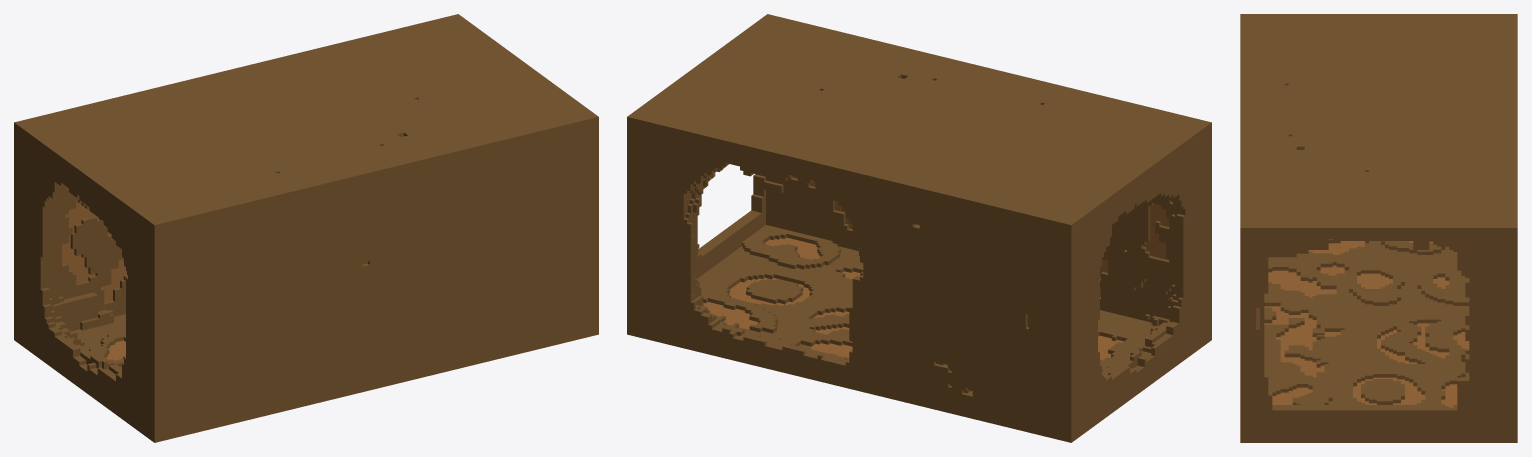
The model's file is Level1_pathway_template_v2.dae.
The picture shows the model from 3 angles, left to right: view 1: azimuth 30°, elevation 25°; view 2: azimuth 150°, elevation 25°; view 3: azimuth 270°, elevation 25°; orthographic projection.
Parts seen in each view (by area): view 1: level1_pathway_template_v2.level_1_template_v3; view 2: level1_pathway_template_v2.level_1_template_v3; view 3: level1_pathway_template_v2.level_1_template_v3.
Part boxes in pixels (bbox=[...]): level1_pathway_template_v2.level_1_template_v3: bbox=[14, 14, 598, 442]; level1_pathway_template_v2.level_1_template_v3: bbox=[627, 14, 1211, 442]; level1_pathway_template_v2.level_1_template_v3: bbox=[1240, 14, 1517, 442].
Bounding box in the file's own units: 12.6 × 5.9 × 6.9.
1 material, 1 textured.
